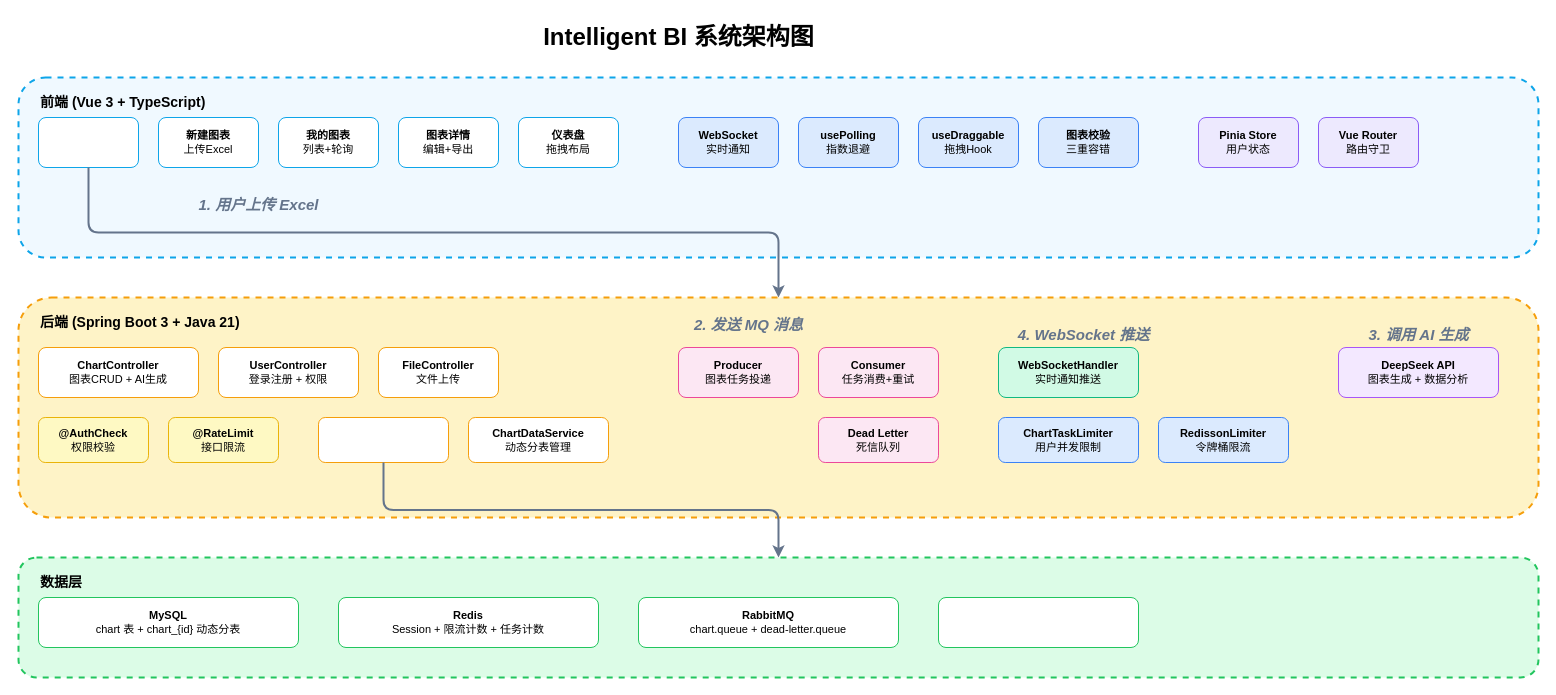
Image size: 1556x695. Some labels were removed from this diagram. Here are the shapes that lost their labels. From the top down, the box of each, then its label:
(38, 116, 138, 168): 主页 数据看板
(318, 416, 448, 462): ChartService 图表业务逻辑
(938, 596, 1138, 648): Redisson 分布式锁 + 令牌桶
